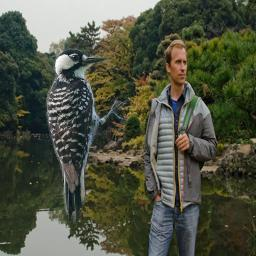Woodpecker: (43, 48, 131, 224)
